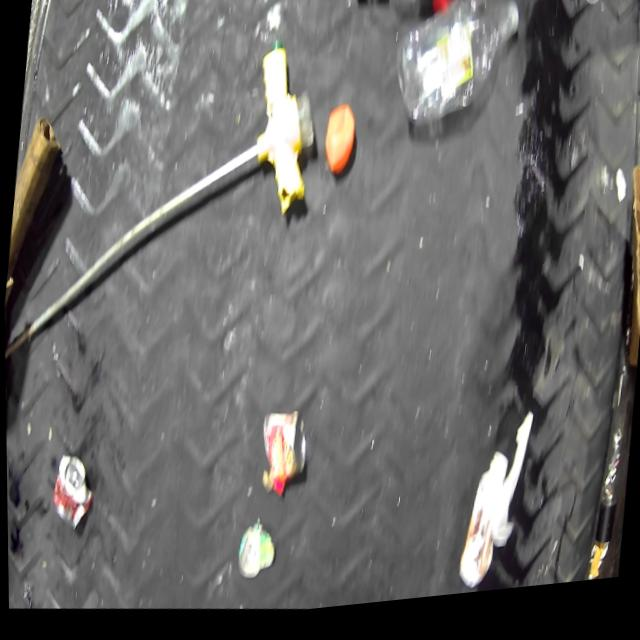can: (255, 409, 312, 501), (46, 449, 96, 537), (233, 525, 276, 584)
plastic_bottle: (388, 0, 525, 149), (352, 0, 487, 38)
